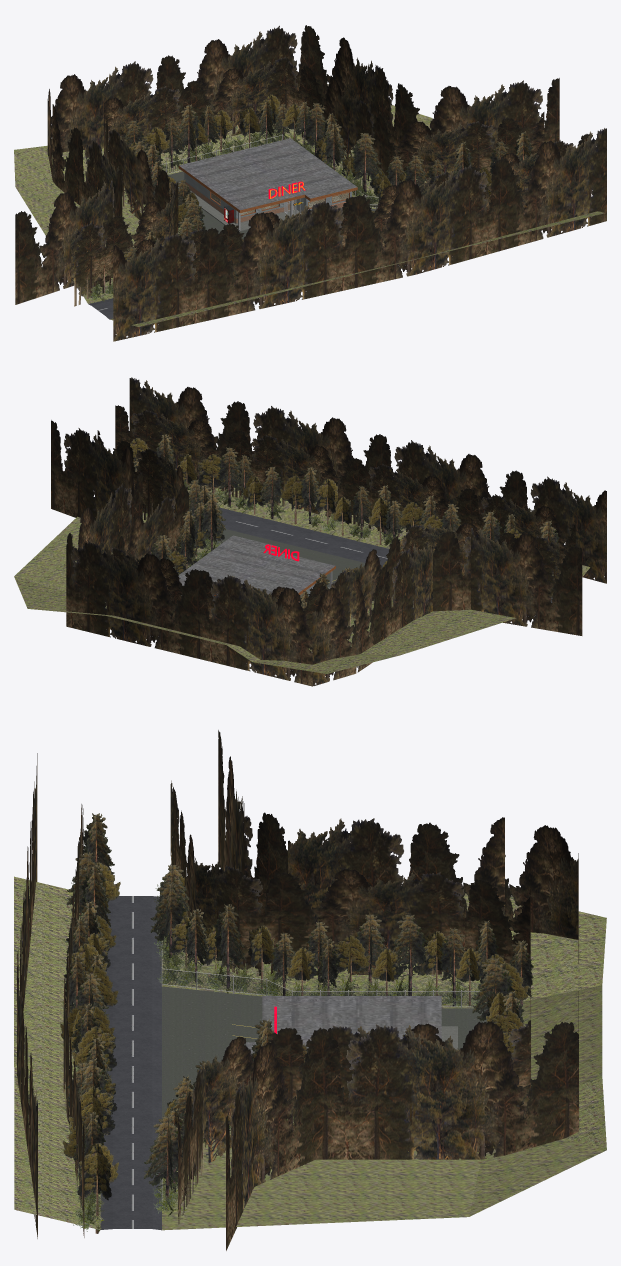
The model's file is diner.glb.
The picture shows the model from 3 angles, top to bottom: view 1: azimuth 30°, elevation 25°; view 2: azimuth 150°, elevation 25°; view 3: azimuth 270°, elevation 25°; orthographic projection. The views are drawn at different scales.
Visible parts, largest first — view 1: Background, Trees.001, DINER, Grass, Bush, Fences, Asphalt_01, Asphalt; view 2: Background, Trees.001, Grass, DINER, Asphalt_02, Bush, Asphalt; view 3: Background, Grass, Trees.001, Asphalt_02, Asphalt, Bush, DINER, Fences.
Boxes of the visible parts, x1,y1,x2,y2 form: Background: (15, 25, 606, 341); Trees.001: (120, 94, 532, 274); DINER: (178, 138, 357, 223); Grass: (14, 83, 605, 326); Bush: (88, 121, 379, 301); Fences: (161, 134, 378, 207); Asphalt_01: (178, 182, 342, 231); Asphalt: (168, 171, 375, 239); Background: (51, 377, 606, 686); Trees.001: (130, 433, 559, 616); Grass: (14, 477, 590, 673); DINER: (178, 535, 335, 602); Asphalt_02: (190, 507, 552, 602); Bush: (142, 480, 560, 615); Asphalt: (216, 529, 381, 587); Background: (17, 730, 578, 1250); Grass: (14, 876, 606, 1230); Trees.001: (60, 813, 533, 1233); Asphalt_02: (100, 896, 161, 1230); Asphalt: (162, 986, 488, 1118); Bush: (71, 882, 485, 1231); DINER: (246, 996, 441, 1055); Fences: (161, 941, 486, 1201).
Size of the model in its own units: 77.83 by 14.9 by 49.98.
Materials: 94 (88 with a texture image).
